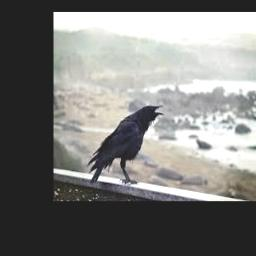Crow: (86, 104, 165, 186)
